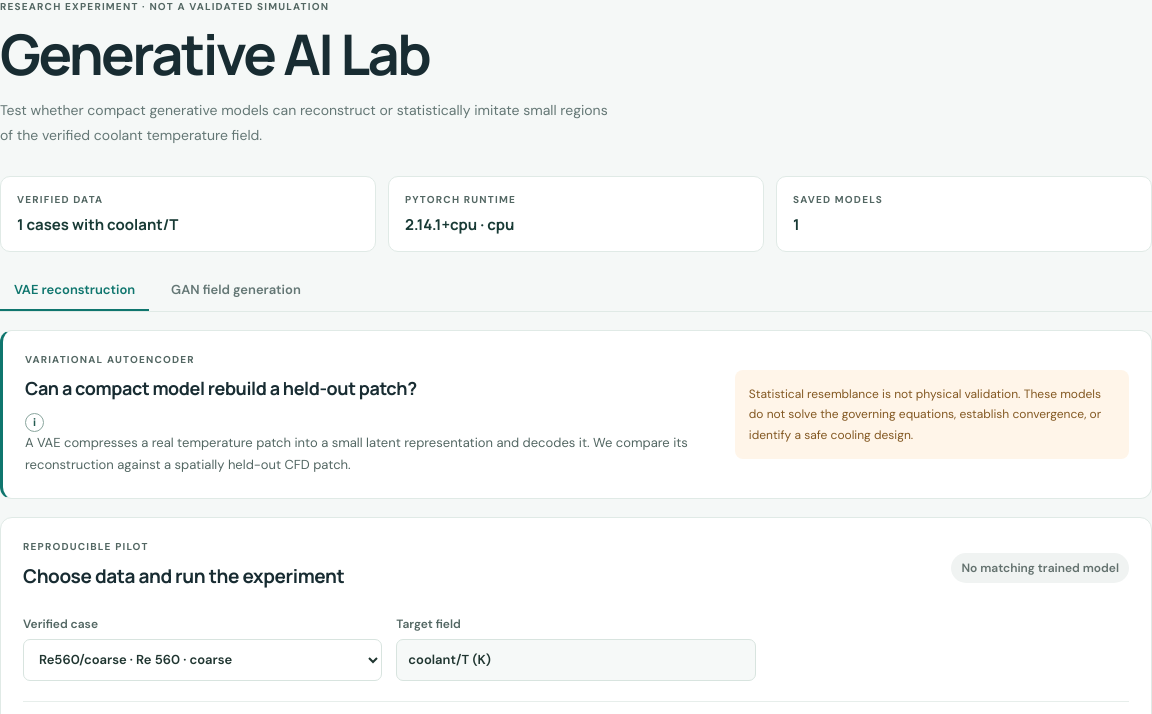
Scenario: GenerativeAiLab › requires a trained GAN, labels generated output synthetic, and shows measured comparison
Click the tab "GAN field generation": (236, 291) [157,270,315,311]
(page scrolled)
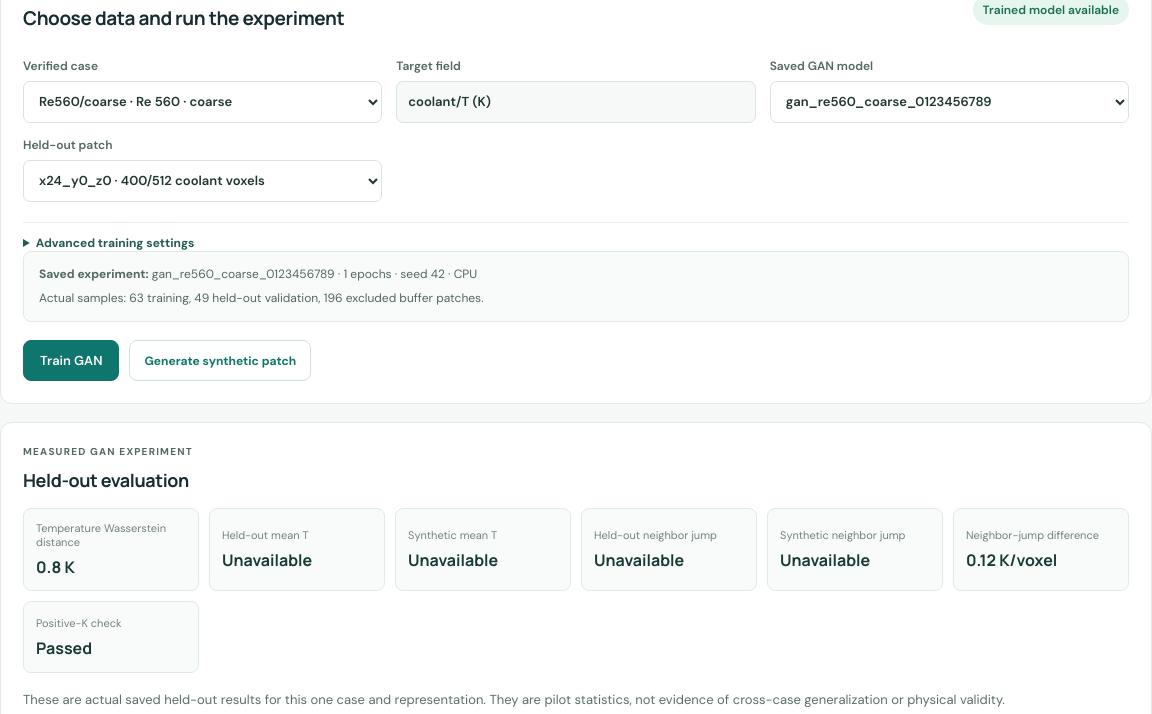
Expected: the button "Generate synthetic patch" is enabled
Click the button "Generate synthetic patch": (220, 361) [130,340,311,381]
(page scrolled)
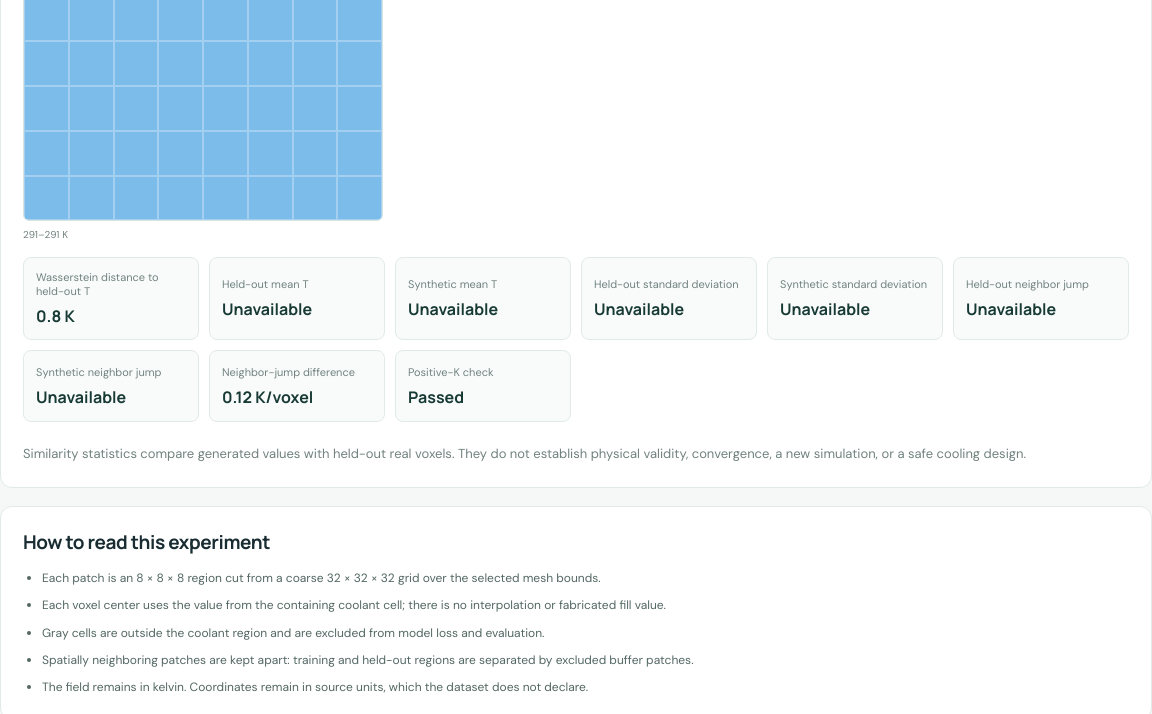
Expected: the text "Similarity statistics compare generated values" is shown, [23,445,1026,462]
